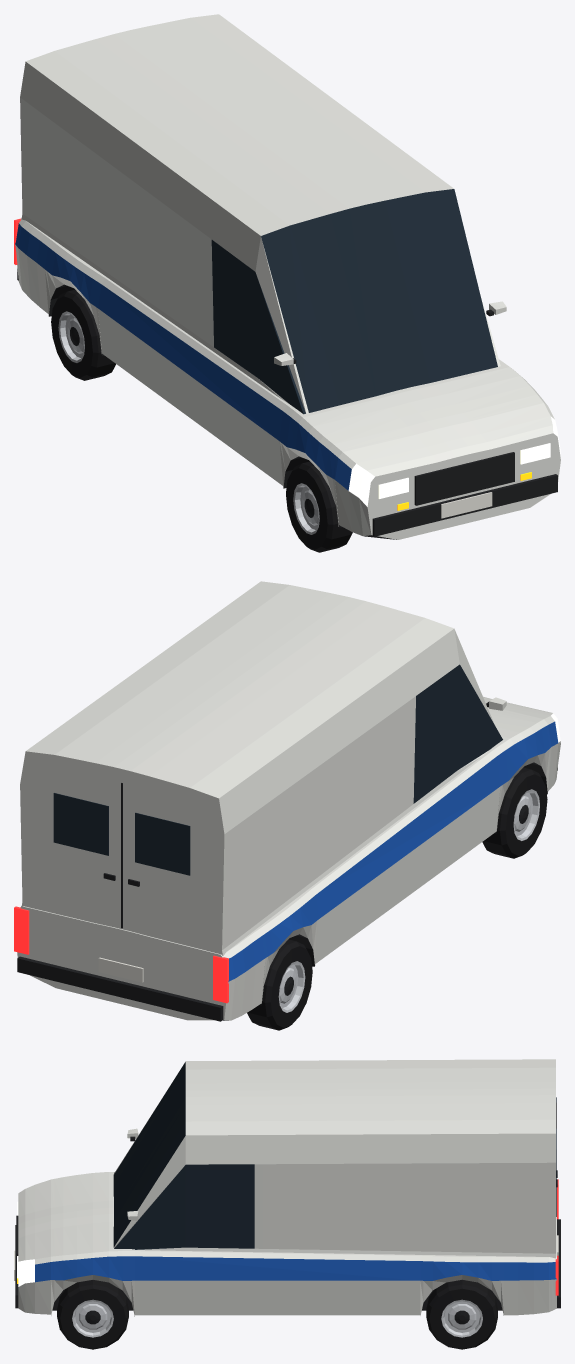
File: delivery-van-01.glb
The picture shows the model from 3 angles, top to bottom: view 1: azimuth 30°, elevation 25°; view 2: azimuth 150°, elevation 25°; view 3: azimuth 270°, elevation 25°; orthographic projection. The views are drawn at different scales.
Parts seen in each view (by area): view 1: Body, Wheel_FR, Wheel_RR; view 2: Body, Wheel_RR, Wheel_FR; view 3: Body, Wheel_FL, Wheel_RL.
Boxes of the visible parts, bbox=[...] form: Body: bbox=[14, 14, 560, 539]; Wheel_FR: bbox=[286, 461, 352, 552]; Wheel_RR: bbox=[51, 289, 115, 380]; Body: bbox=[14, 581, 560, 1021]; Wheel_RR: bbox=[247, 939, 312, 1030]; Wheel_FR: bbox=[482, 767, 547, 858]; Body: bbox=[14, 1059, 560, 1316]; Wheel_FL: bbox=[57, 1280, 128, 1349]; Wheel_RL: bbox=[426, 1279, 497, 1349].
Size of the model in its own units: 2.08 by 2.4 by 5.48.
